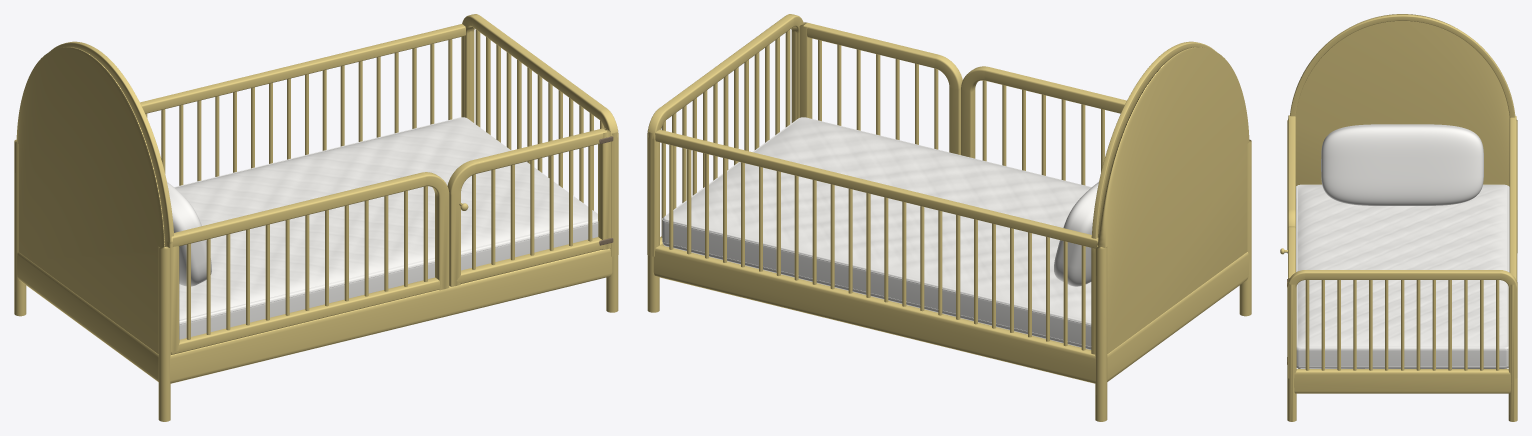
The model's file is yellow_toto2_baby.glb.
3 renders of one model, left to right at view 1: azimuth 30°, elevation 25°; view 2: azimuth 150°, elevation 25°; view 3: azimuth 270°, elevation 25°, orthographic. The views are drawn at different scales.
Visible parts, largest first — view 1: White diamond quilted comforter, Solid arched headboard, Long base rail, Fitted ivory mattress covering bed deck 2000 x 1110 x 120 mm, Front guard rounded entry corner, Rounded corner leg (×4), Back upper rail, Rounded foot guard outer frame, End base rail, Gate curved latch stile and top rail, Front lower rail, Gate lower rail (+5 smaller); view 2: White diamond quilted comforter, Solid arched headboard, Long base rail, Fitted ivory mattress covering bed deck 2000 x 1110 x 120 mm, Back upper rail, Rounded corner leg (×3), Rounded foot guard outer frame, End base rail, Front guard rounded entry corner, Gate curved latch stile and top rail, Soft white rectangular pillow, Raised rounded arch border (+2 smaller); view 3: White diamond quilted comforter, Solid arched headboard, Soft white rectangular pillow, End base rail, Foot guard vertical spindle (×13), Fitted ivory mattress covering bed deck 2000 x 1110 x 120 mm, Rounded foot guard outer frame, Raised rounded arch border, Rounded corner leg (×2), Back upper rail, Front guard rounded entry corner, Gate curved latch stile and top rail.
Part boxes in pixels (x1=…): White diamond quilted comforter: x1=175, y1=117, x2=597, y2=319; Solid arched headboard: x1=16, y1=46, x2=168, y2=353; Long base rail: x1=170, y1=248, x2=612, y2=383; Fitted ivory mattress covering bed deck 2000 x 1110 x 120 mm: x1=174, y1=117, x2=598, y2=339; Front guard rounded entry corner: x1=171, y1=172, x2=449, y2=290; Rounded corner leg (×4): x1=14, y1=31, x2=618, y2=421; Back upper rail: x1=140, y1=24, x2=465, y2=113; Rounded foot guard outer frame: x1=461, y1=14, x2=618, y2=256; End base rail: x1=17, y1=252, x2=158, y2=381; Gate curved latch stile and top rail: x1=447, y1=128, x2=606, y2=286; Front lower rail: x1=171, y1=277, x2=439, y2=354; Gate lower rail: x1=456, y1=237, x2=603, y2=283; White diamond quilted comforter: x1=665, y1=117, x2=1091, y2=320; Solid arched headboard: x1=1098, y1=46, x2=1249, y2=353; Long base rail: x1=653, y1=245, x2=1095, y2=383; Fitted ivory mattress covering bed deck 2000 x 1110 x 120 mm: x1=662, y1=117, x2=1091, y2=349; Back upper rail: x1=655, y1=129, x2=1098, y2=248; Rounded corner leg (×3): x1=647, y1=132, x2=1251, y2=421; Rounded foot guard outer frame: x1=647, y1=14, x2=803, y2=256; End base rail: x1=1107, y1=252, x2=1248, y2=381; Front guard rounded entry corner: x1=961, y1=66, x2=1126, y2=158; Gate curved latch stile and top rail: x1=803, y1=22, x2=962, y2=154; Soft white rectangular pillow: x1=1054, y1=182, x2=1098, y2=286; Raised rounded arch border: x1=1091, y1=41, x2=1216, y2=354; White diamond quilted comforter: x1=1298, y1=185, x2=1506, y2=346; Solid arched headboard: x1=1295, y1=14, x2=1509, y2=186; Soft white rectangular pillow: x1=1321, y1=124, x2=1483, y2=205; End base rail: x1=1294, y1=369, x2=1510, y2=393; Foot guard vertical spindle (×13): x1=1305, y1=280, x2=1499, y2=370; Fitted ivory mattress covering bed deck 2000 x 1110 x 120 mm: x1=1296, y1=184, x2=1509, y2=368; Rounded foot guard outer frame: x1=1287, y1=270, x2=1517, y2=378; Raised rounded arch border: x1=1290, y1=14, x2=1515, y2=117; Rounded corner leg (×2): x1=1287, y1=282, x2=1517, y2=421; Back upper rail: x1=1509, y1=116, x2=1516, y2=280; Front guard rounded entry corner: x1=1288, y1=115, x2=1295, y2=229; Gate curved latch stile and top rail: x1=1288, y1=226, x2=1295, y2=278.
Size of the model in its own units: 2.09 by 1.37 by 1.22.
